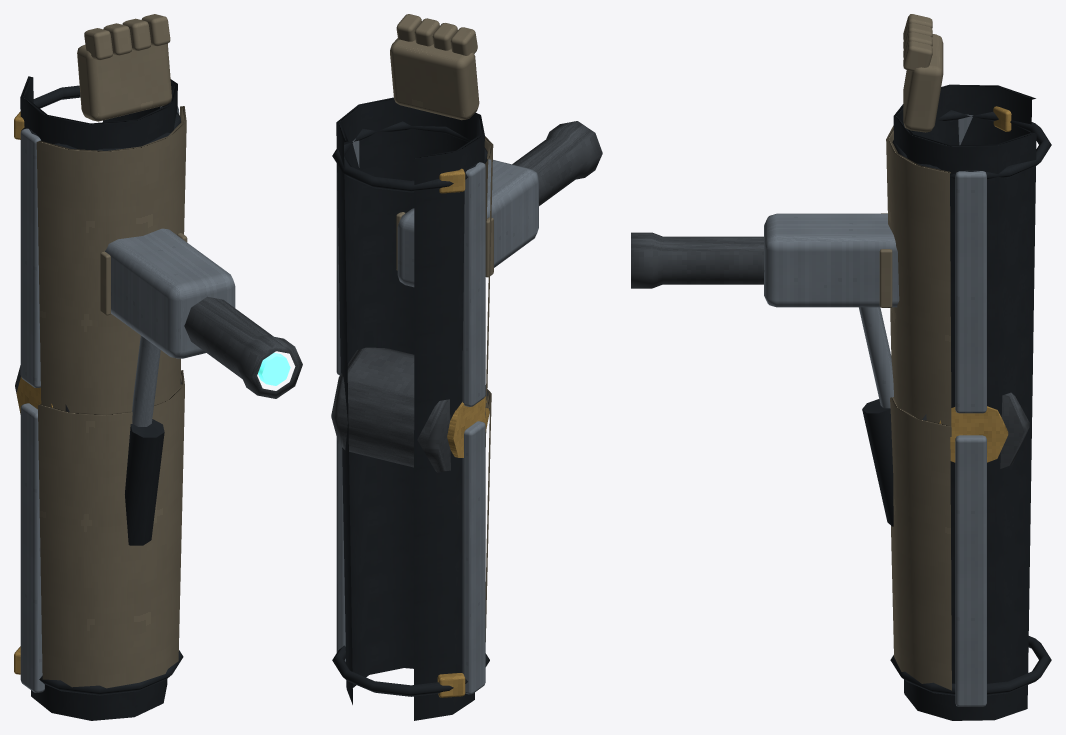
Rendered from exo-arm.lod2.glb.
3 views of the same model, side by side, from view 1: azimuth 30°, elevation 25°; view 2: azimuth 150°, elevation 25°; view 3: azimuth 270°, elevation 25° (orthographic). The views are drawn at different scales.
Parts seen in each view (by area): view 1: ceramic / ceramic composite panel, alloy / machined anodized alloy, polymer / stippled polymer, darksteel / oil-blackened fittings, brass / polished brass furniture, energy / emissive field channel; view 2: polymer / stippled polymer, alloy / machined anodized alloy, darksteel / oil-blackened fittings, ceramic / ceramic composite panel, brass / polished brass furniture; view 3: polymer / stippled polymer, ceramic / ceramic composite panel, alloy / machined anodized alloy, darksteel / oil-blackened fittings, brass / polished brass furniture.
Part boxes in pixels (x1=…): ceramic / ceramic composite panel: x1=36, y1=14, x2=187, y2=688; alloy / machined anodized alloy: x1=20, y1=106, x2=235, y2=692; polymer / stippled polymer: x1=20, y1=76, x2=183, y2=720; darksteel / oil-blackened fittings: x1=15, y1=296, x2=302, y2=414; brass / polished brass furniture: x1=14, y1=111, x2=52, y2=674; energy / emissive field channel: x1=258, y1=352, x2=290, y2=385; polymer / stippled polymer: x1=332, y1=97, x2=489, y2=720; alloy / machined anodized alloy: x1=336, y1=138, x2=538, y2=694; darksteel / oil-blackened fittings: x1=331, y1=121, x2=602, y2=472; ceramic / ceramic composite panel: x1=390, y1=14, x2=493, y2=641; brass / polished brass furniture: x1=437, y1=168, x2=489, y2=697; polymer / stippled polymer: x1=862, y1=84, x2=1051, y2=720; ceramic / ceramic composite panel: x1=879, y1=14, x2=951, y2=690; alloy / machined anodized alloy: x1=764, y1=114, x2=986, y2=706; darksteel / oil-blackened fittings: x1=631, y1=232, x2=1029, y2=468; brass / polished brass furniture: x1=939, y1=106, x2=1011, y2=462.
Bounding box in the file's own units: 0.155 × 0.6896 × 0.396.
Materials: 6 (5 with a texture image).
